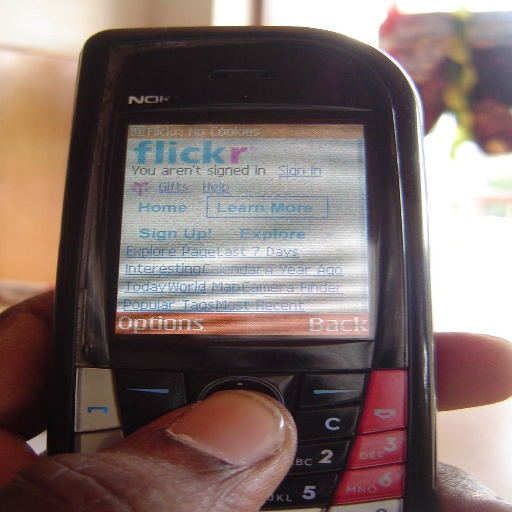hand: (0, 277, 511, 511)
